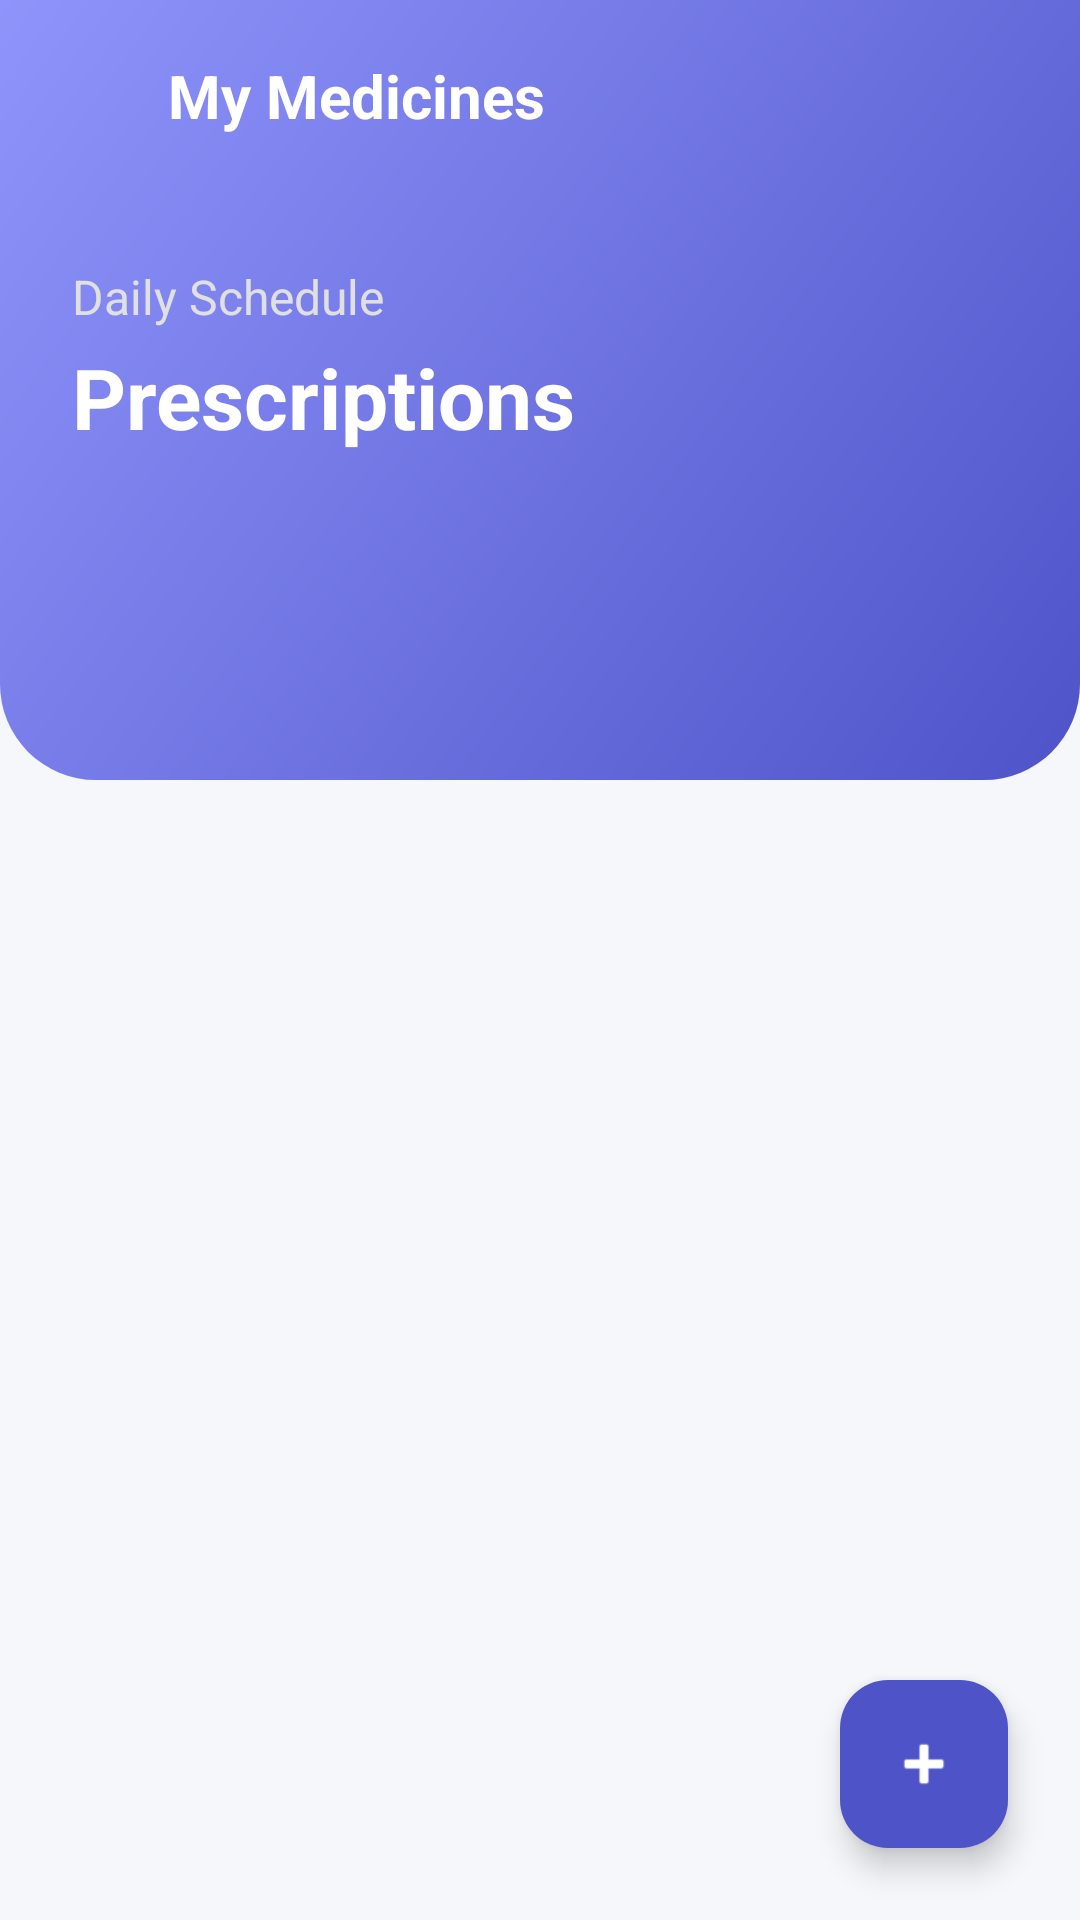

Screen size 1080*1920. Icon name, then its center in pixels as point (x, y):
Add Medicine: point (924, 1764)
